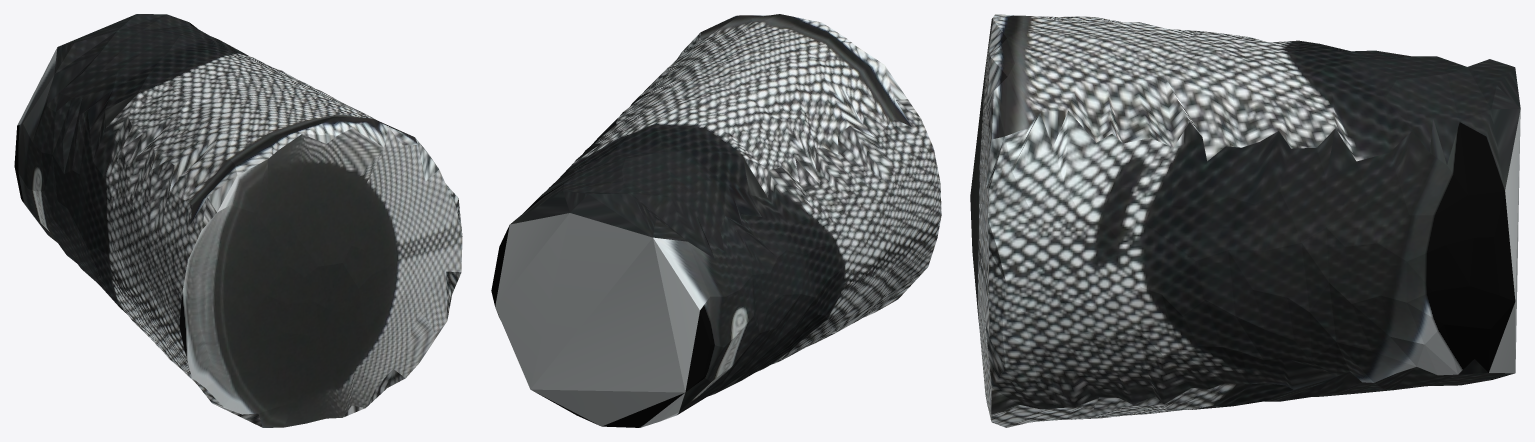
File: rolodex_jumbo_pencil_cup.dae
3 views of the same model, side by side, from view 1: azimuth 30°, elevation 25°; view 2: azimuth 150°, elevation 25°; view 3: azimuth 270°, elevation 25° (orthographic). The views are drawn at different scales.
Visible parts, largest first — view 1: node; view 2: node; view 3: node.
Part boxes in pixels (box(x1,y1,x2,y2)): node: box(14, 14, 462, 427); node: box(491, 14, 941, 427); node: box(970, 14, 1520, 427).
Size of the model in its own units: 0.1076 by 0.1085 by 0.1429.
